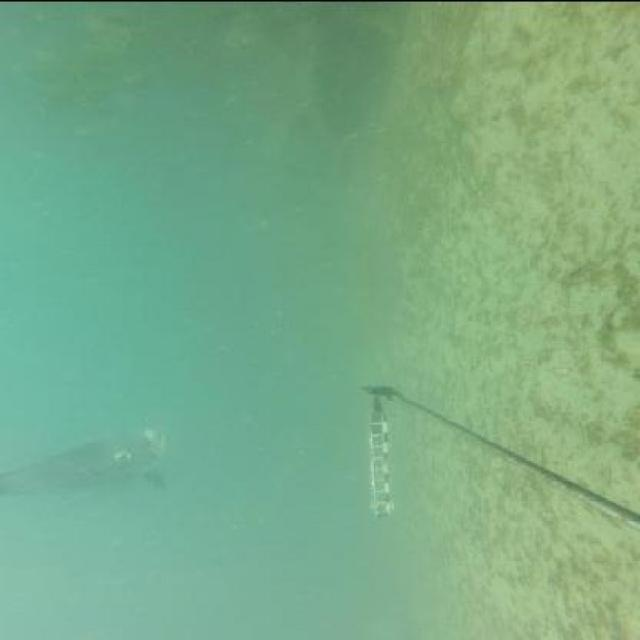acanthopagrus_palmaris: (1, 420, 181, 508)
